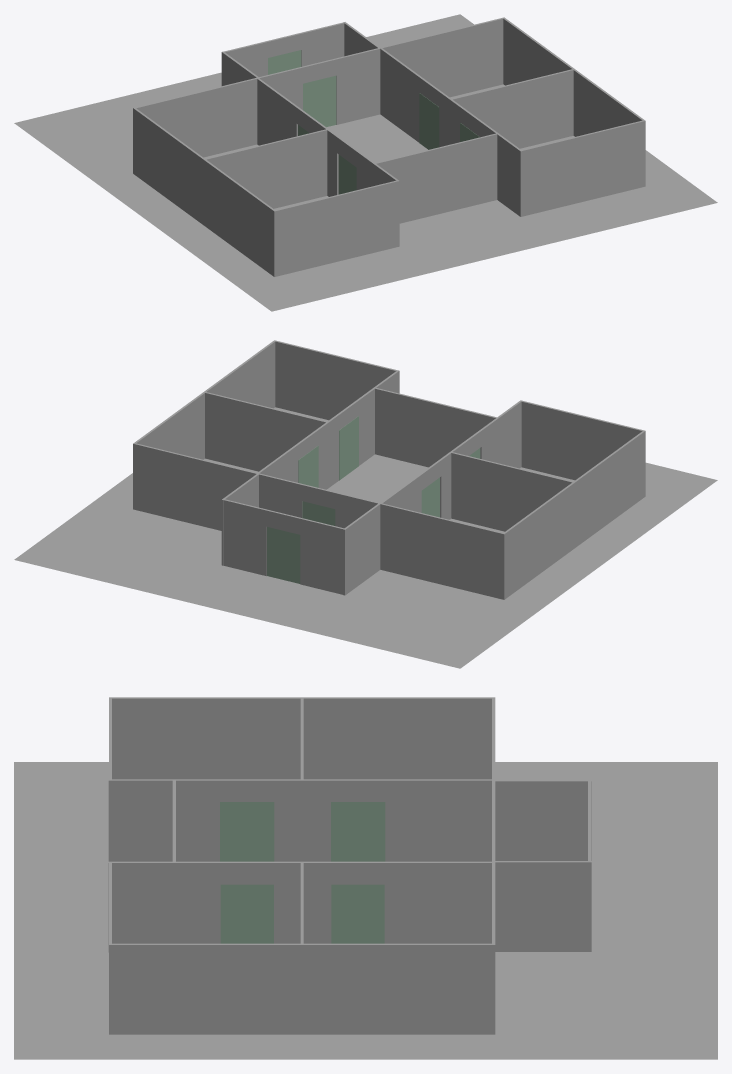
Rendered from Layout.fbx.
3 views of the same model, one above another, from view 1: azimuth 30°, elevation 25°; view 2: azimuth 150°, elevation 25°; view 3: azimuth 270°, elevation 25° (orthographic). The views are drawn at different scales.
Parts seen in each view (by area): view 1: floor, wall_8, wall_4, wall_1, DoorWall_2, wall_3, wall_2, wall_9, wall_7, wall_5, wall_6, LockWall_1 (+10 smaller); view 2: floor, wall_3, wall_9, LockWall_2, wall_4, wall_2, wall_8, wall_7, wall_1, wall_5, wall_6, DoorWall_1 (+11 smaller); view 3: floor, DoorWall_2, DoorWall_1, wall_10, wall_11, wall_5, wall_6, ShortWall_2, ShortWall_1, door2, door3, door4 (+1 smaller).
Part boxes in pixels (x1,y1,x2,y2): floor: [14, 14, 717, 311]; wall_8: [520, 120, 644, 216]; wall_4: [274, 180, 397, 276]; wall_1: [374, 133, 497, 223]; DoorWall_2: [380, 48, 522, 216]; wall_3: [134, 77, 257, 157]; wall_2: [204, 129, 328, 208]; wall_9: [380, 17, 504, 97]; wall_7: [452, 69, 573, 148]; wall_5: [203, 159, 275, 276]; wall_6: [133, 107, 205, 225]; LockWall_1: [258, 47, 380, 127]; floor: [14, 407, 717, 668]; wall_3: [380, 503, 503, 599]; wall_9: [133, 443, 257, 530]; LockWall_2: [223, 499, 345, 594]; wall_4: [521, 400, 644, 480]; wall_2: [451, 452, 573, 531]; wall_8: [274, 340, 396, 420]; wall_7: [204, 391, 327, 471]; wall_1: [375, 388, 496, 467]; wall_5: [573, 430, 645, 548]; wall_6: [502, 482, 574, 599]; DoorWall_1: [380, 400, 521, 519]; floor: [14, 762, 717, 1059]; DoorWall_2: [108, 861, 493, 952]; DoorWall_1: [108, 779, 493, 861]; wall_10: [300, 943, 495, 1034]; wall_11: [109, 943, 303, 1034]; wall_5: [109, 697, 303, 779]; wall_6: [300, 697, 495, 779]; ShortWall_2: [494, 861, 591, 951]; ShortWall_1: [495, 780, 591, 860]; door2: [220, 802, 274, 861]; door3: [331, 802, 385, 861]; door4: [331, 884, 384, 943].
Size of the model in its own units: 2204 by 320 by 2204.
